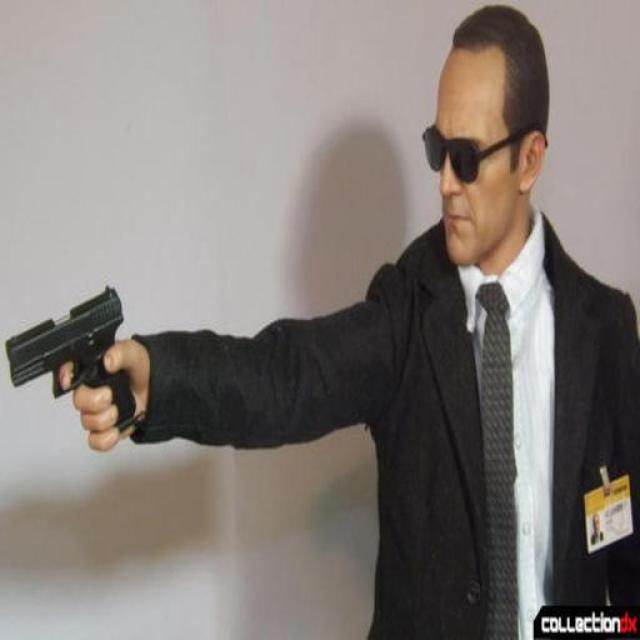pistol: (1, 280, 133, 443)
